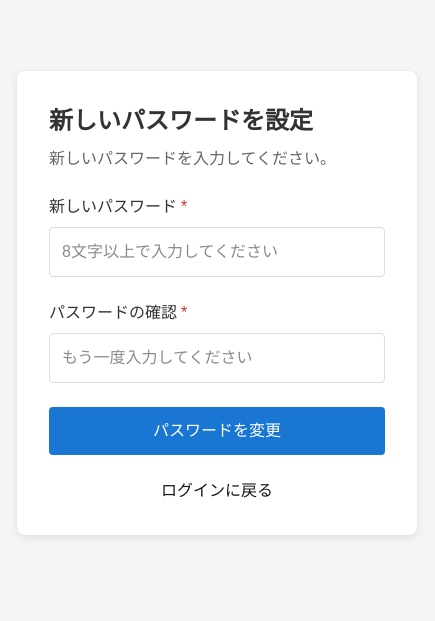
Test: PasswordResetConfirmPage › Error handling › shows expired token error for 404 response
In the password field labelled "新しいパスワード*": (217, 252) [49,227,385,277], type "ValidPass1"
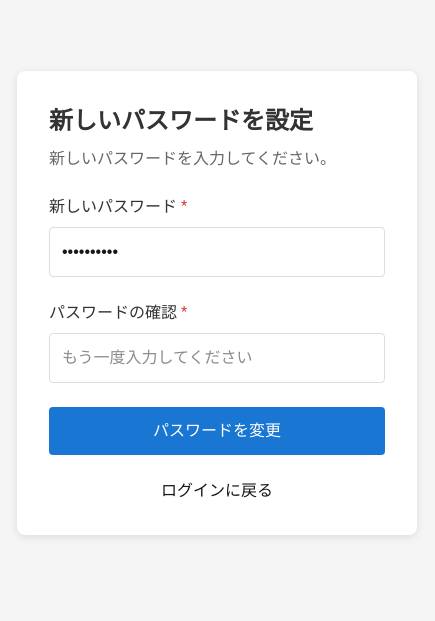
In the password field labelled "パスワードの確認*": (217, 358) [49,333,385,383], type "ValidPass1"
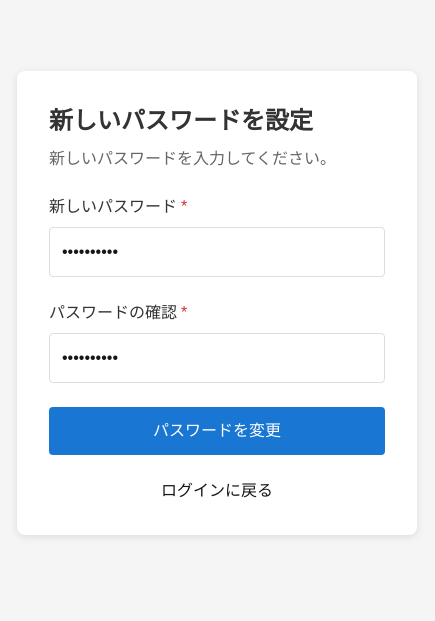
Click the button "パスワードを変更": click(217, 431) [49,407,385,455]
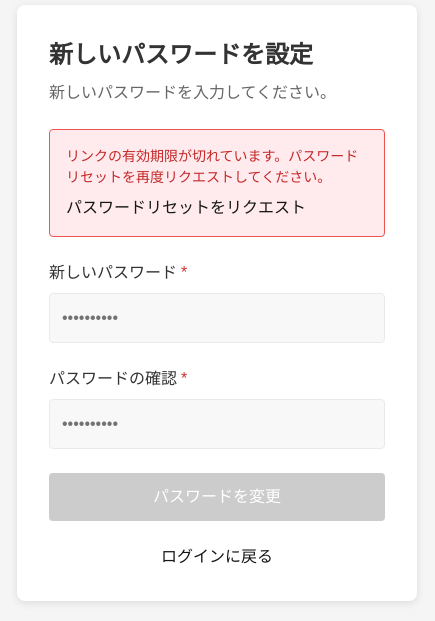
Result: the text "リンクの有効期限が切れています。パスワードリセットを再度リクエストしてください。" is shown at [66,146,368,188]
